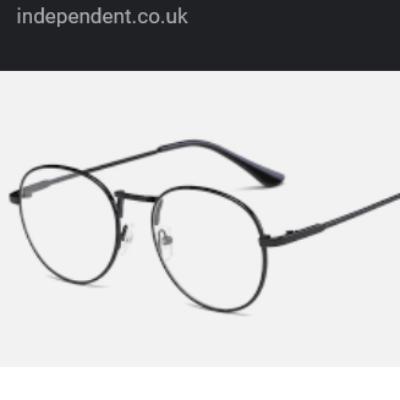glasses: (9, 135, 400, 314)
